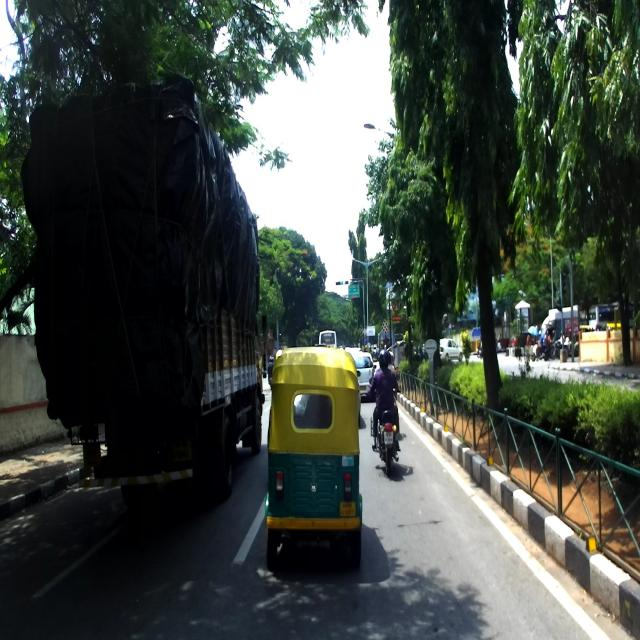autorickshaw: (264, 345, 364, 571)
motorcycle: (368, 376, 400, 476)
truck: (20, 70, 268, 504)
